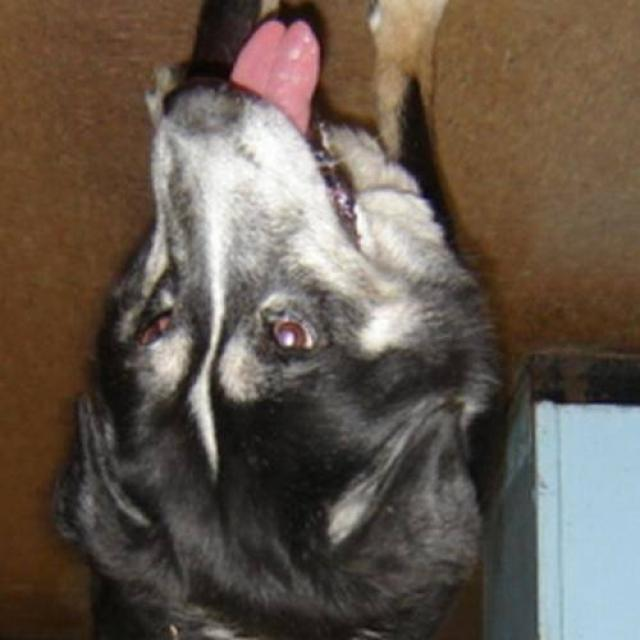dog: (1, 0, 558, 640)
